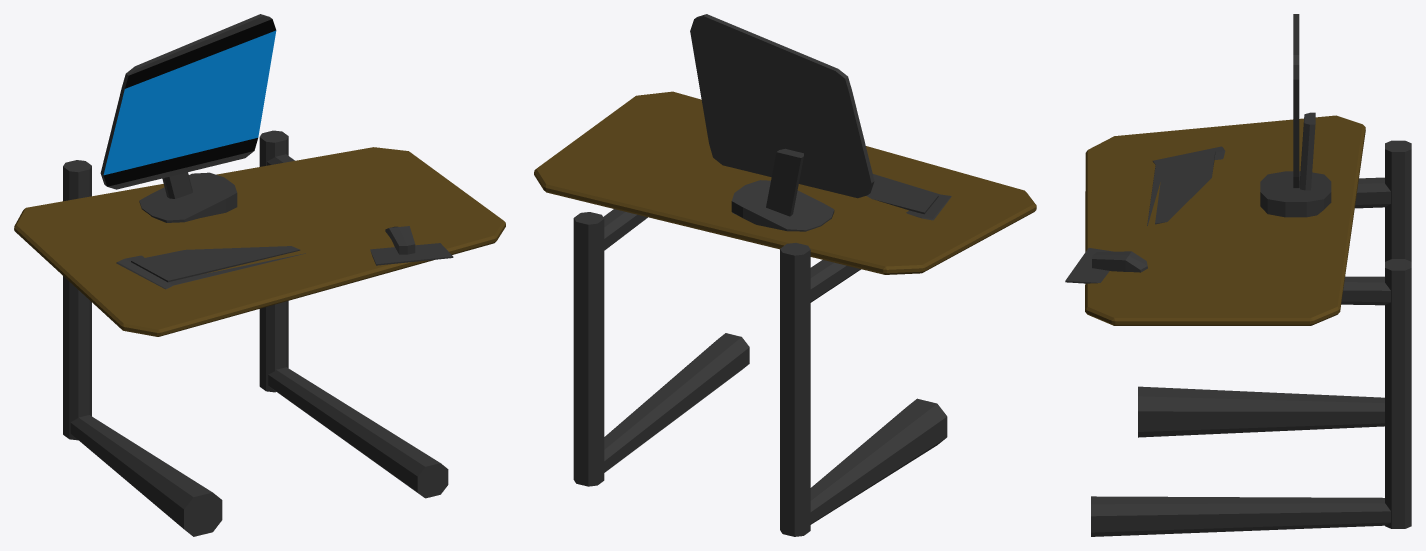
3 views of the same model, side by side, from view 1: azimuth 30°, elevation 25°; view 2: azimuth 150°, elevation 25°; view 3: azimuth 270°, elevation 25° (orthographic). The views are drawn at different scales.
Parts seen in each view (by area): view 1: Mesa; view 2: Mesa; view 3: Mesa.
Boxes of the visible parts, <box> form: Mesa: <box>14,14,505,536</box>; Mesa: <box>534,14,1036,536</box>; Mesa: <box>1065,14,1411,536</box>.
Size of the model in its own units: 1.47 by 1.57 by 1.11.
